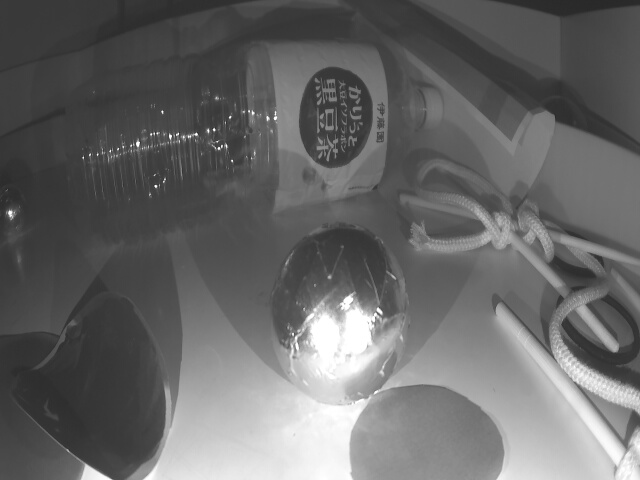Live: (266, 224, 411, 408), (0, 180, 24, 239)
Point: (540, 100, 640, 259), (2, 107, 77, 175)
